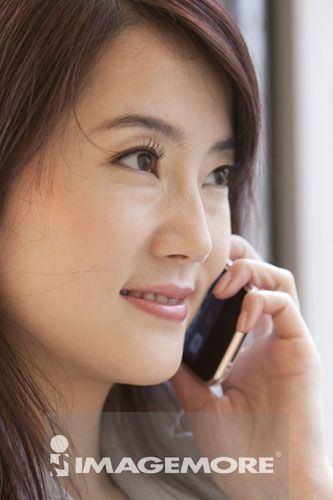talk: (78, 102, 332, 499)
